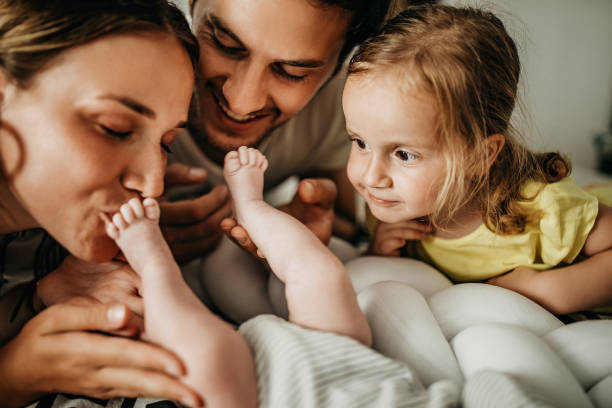without mask: (1, 8, 192, 271), (190, 1, 348, 146), (336, 62, 465, 227)
